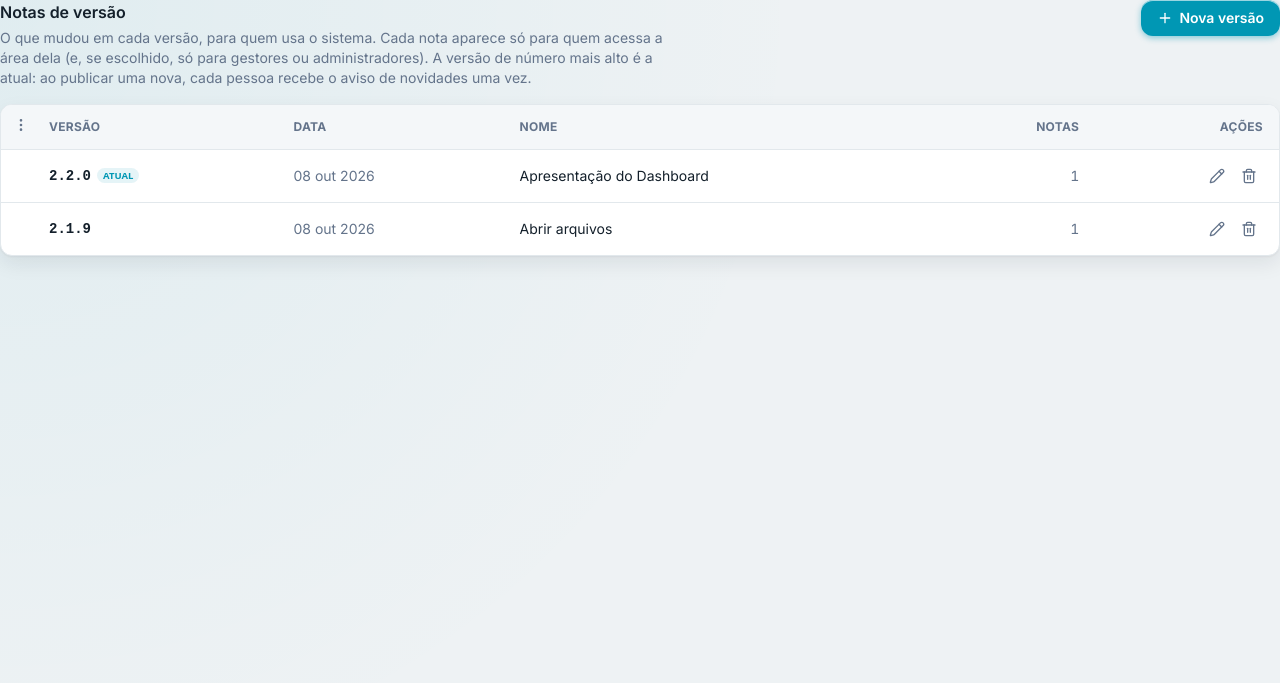
it: Configurações › Notas de versão › um número de versão que já existe não salva
Expected: the text "Apresentação do Dashboard" is shown, [504,150,945,202]
Click the button "Nova versão" at (1211, 18), box [1141,0,1279,36]
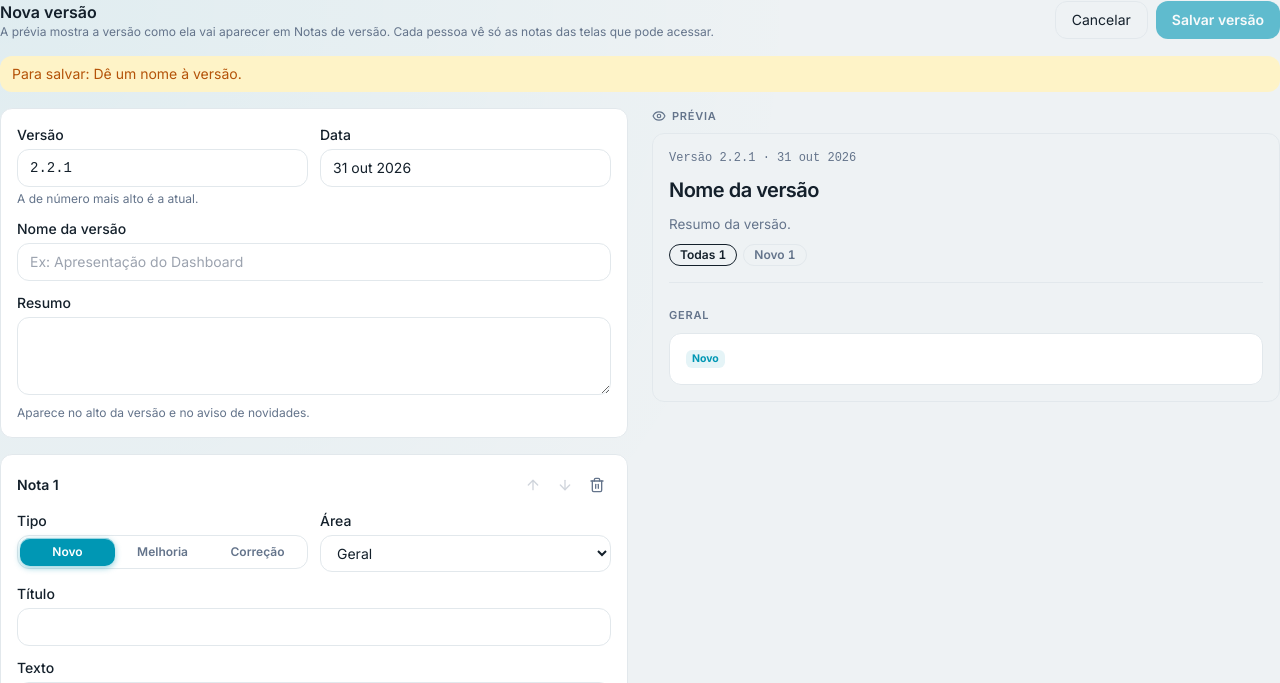
Replace the text in the field labelled "Versão A de número mais alto é a atual." with "2.1.9" at (162, 168), box [17,149,308,187]
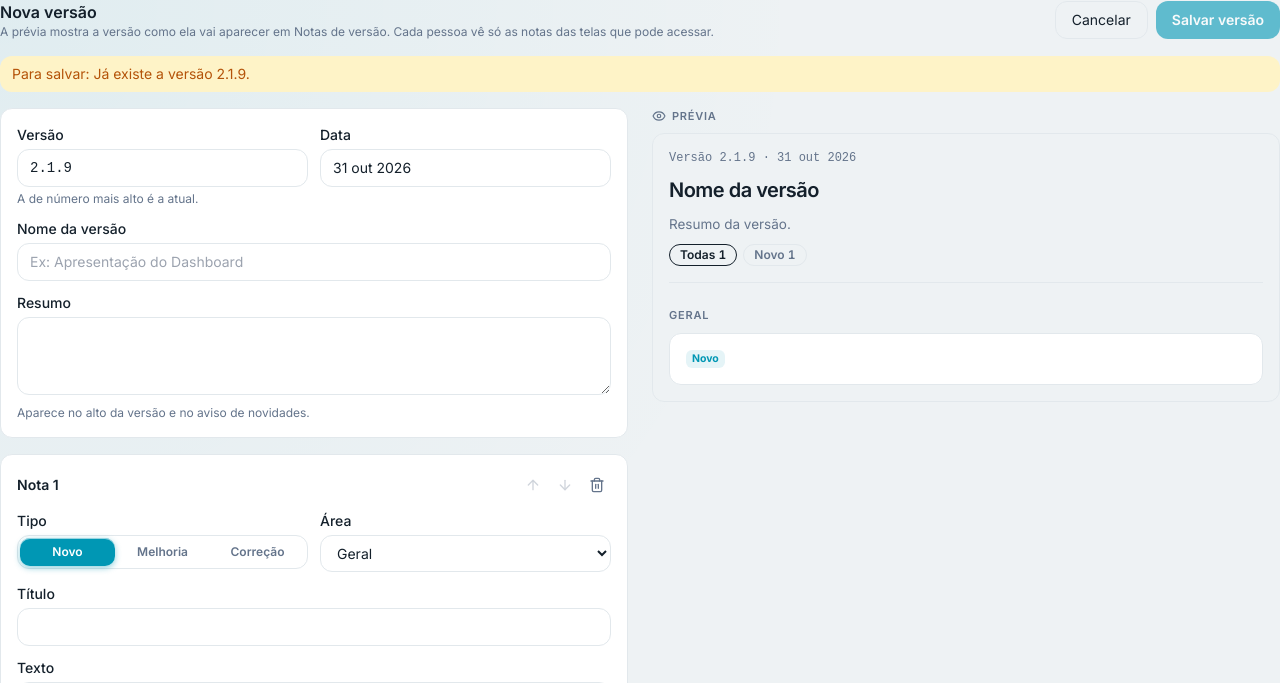
Expected: the message shows "Já existe a versão 2.1.9.", [94,65,250,82]
